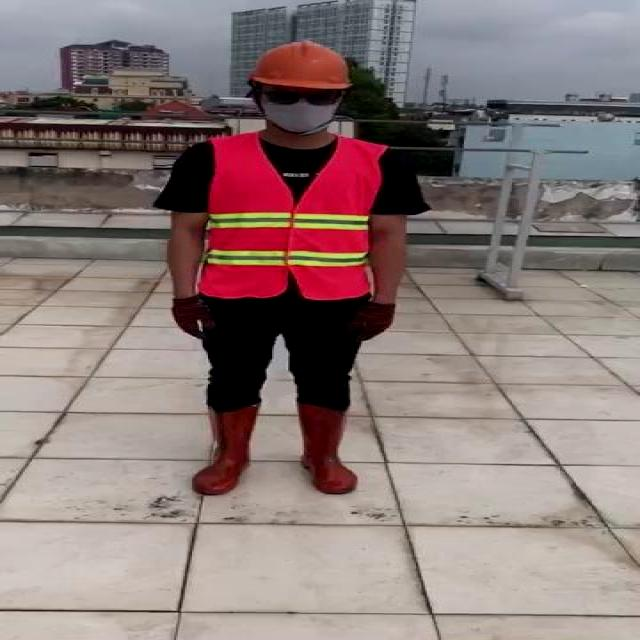boots: (190, 402, 262, 496), (297, 404, 361, 494)
face_mask: (260, 87, 338, 129)
glasses: (266, 86, 342, 107)
hand_glove: (345, 301, 398, 340), (171, 299, 217, 342)
head_helmet: (248, 41, 351, 93)
person: (154, 42, 402, 496)
vest: (203, 136, 384, 298)
